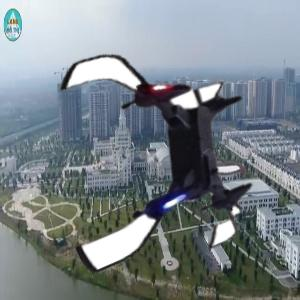drone: (33, 35, 270, 272)
